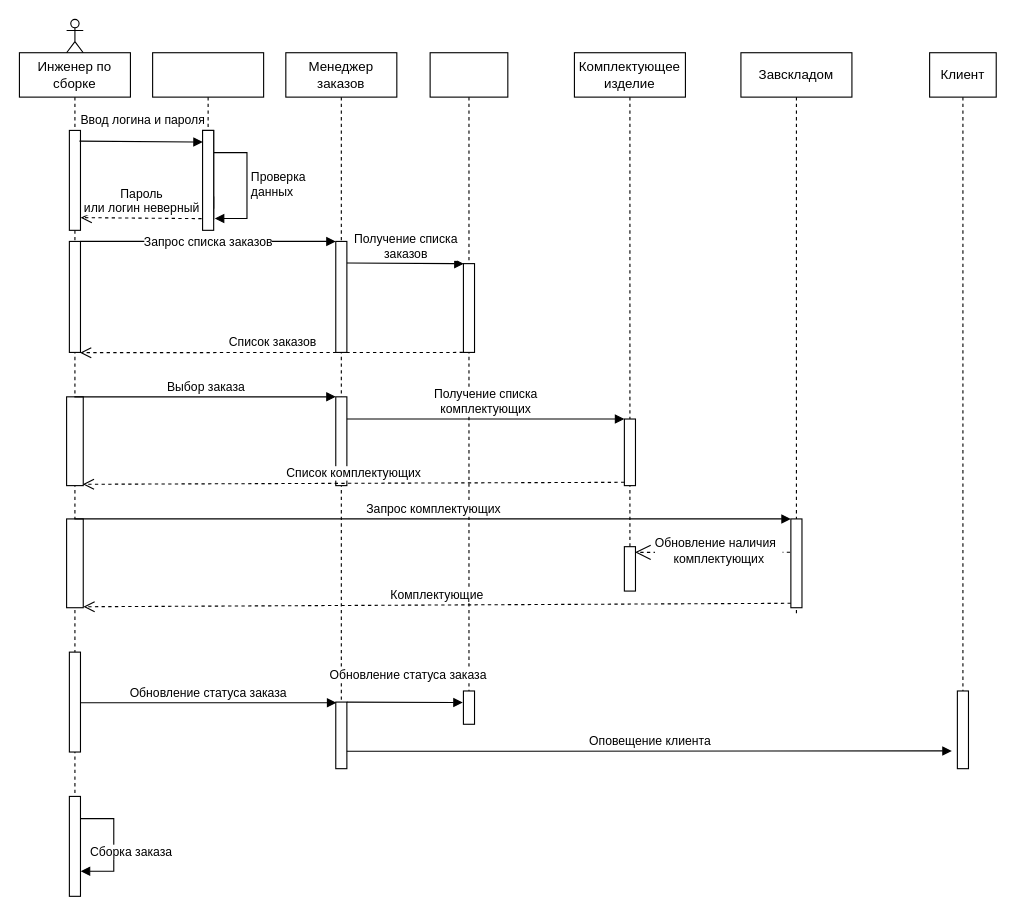
Image size: 1016x916. Some labels were removed from this diagram. The shapes that lost their labels are listed below. From the top down, each one's centre as x and y in pixels, then its label:
point (208, 135): Менеджер доступа
point (468, 388): Заказ
